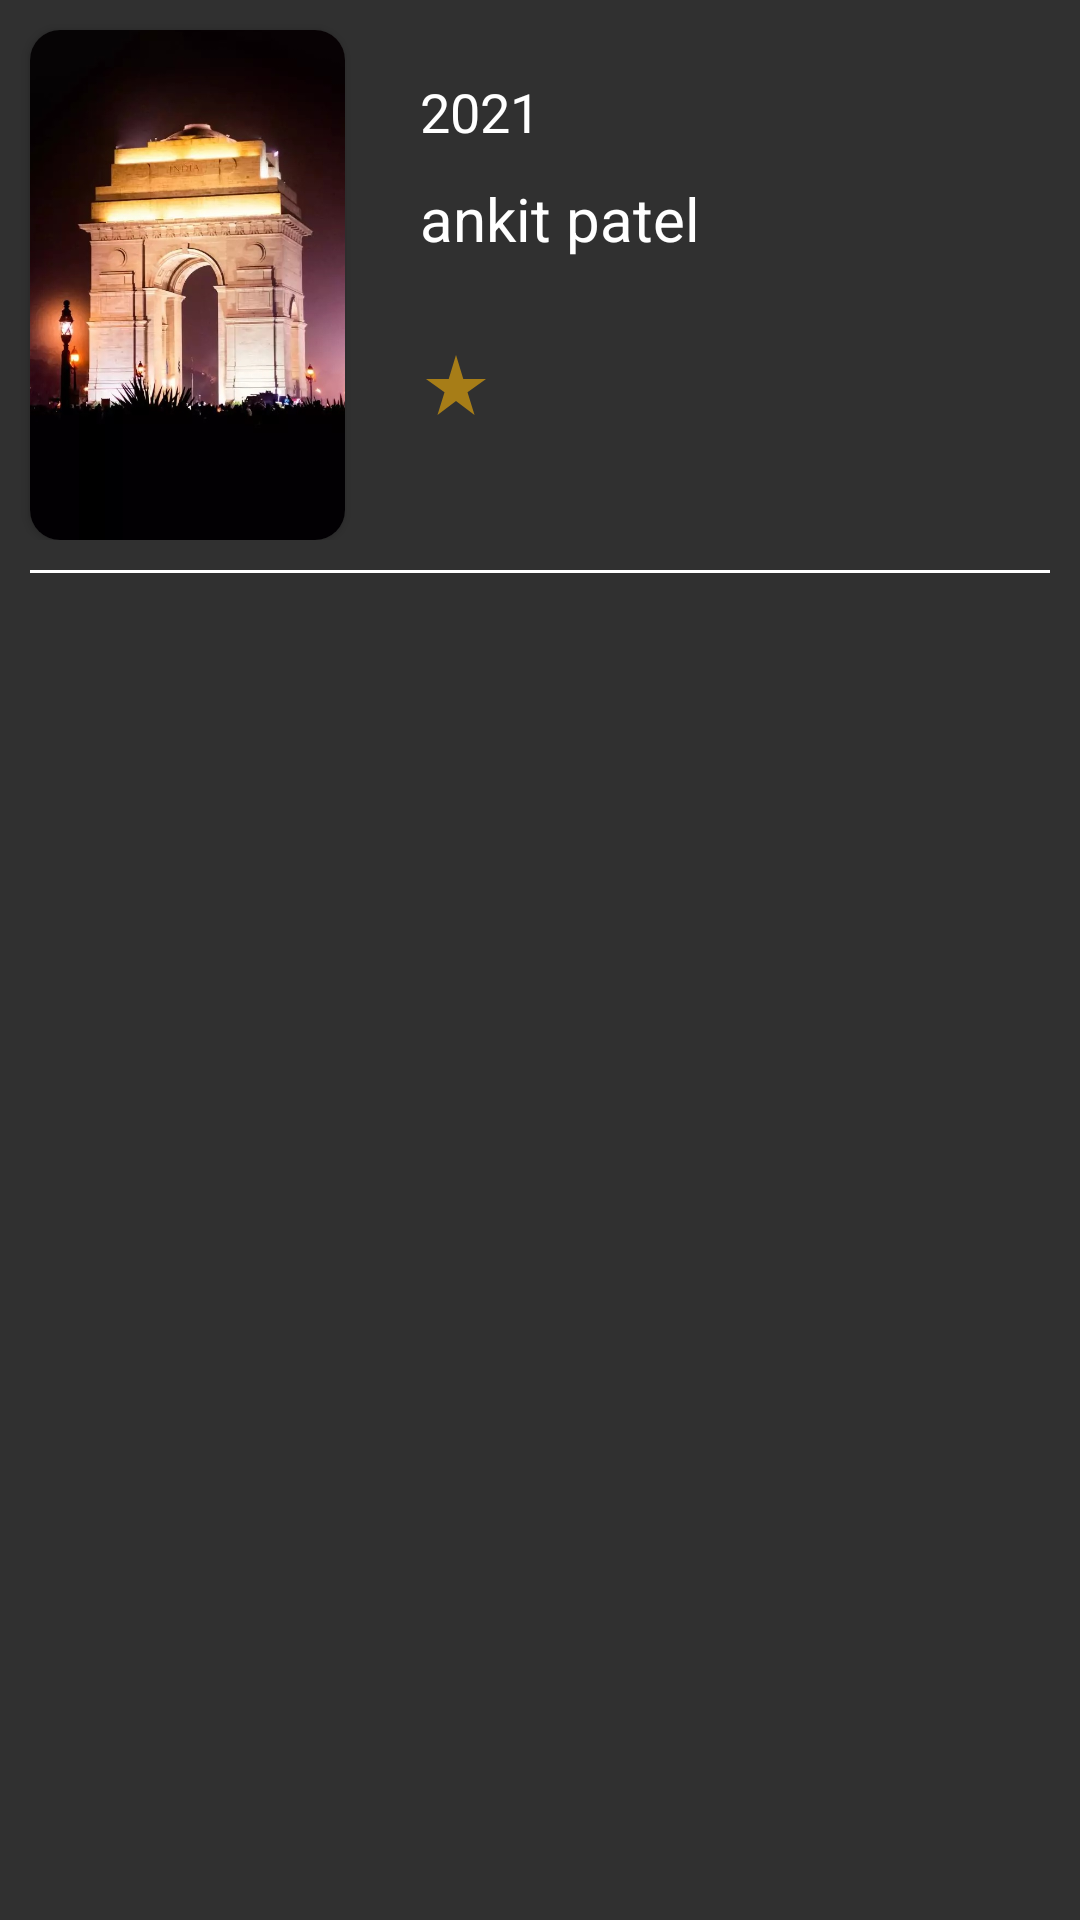

Screen size 1080 x 1920. Icon name, then its center in pixels as point (x, y):
star: point (456, 385)
